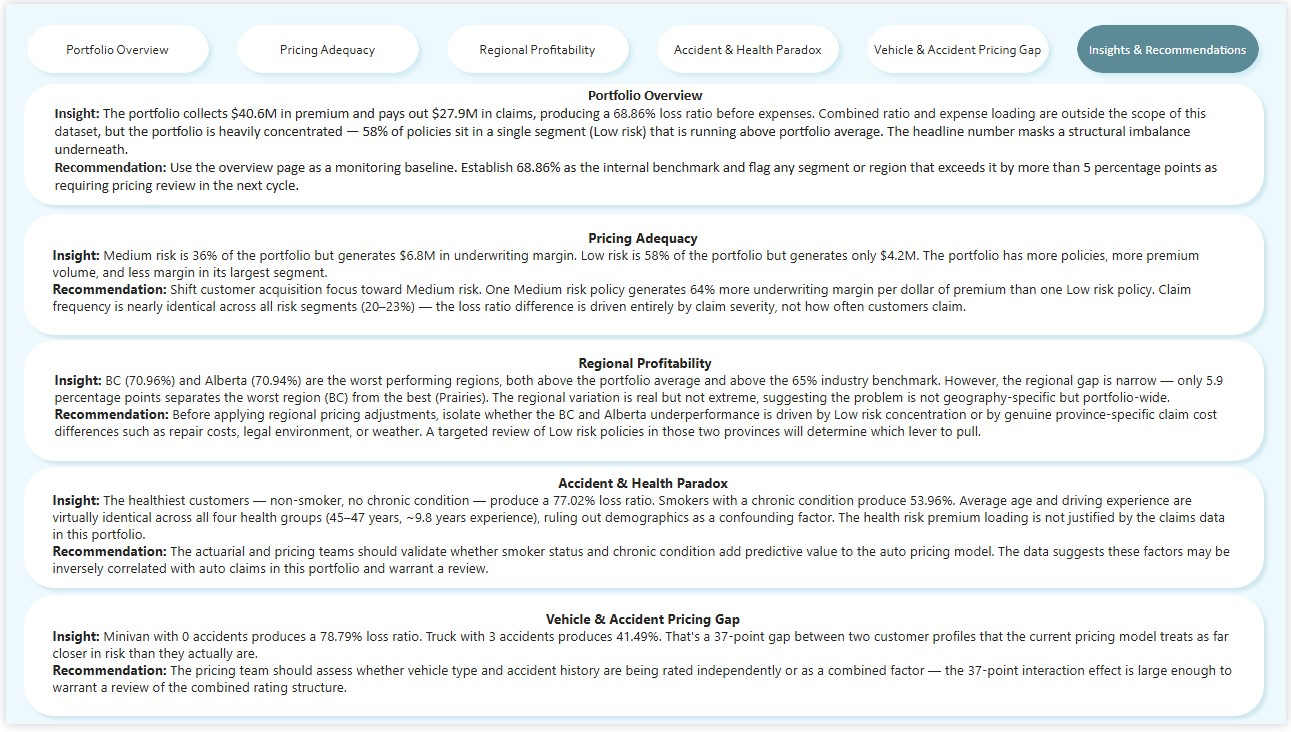

This screenshot's page, from the dashboard's own definition file:
{"tool":"powerbi","page":{"name":"Insights & Recommendations","canvas":[1280,720],"ordinal":5},"visuals":[{"type":"shape","box":[10.4,583,1256,137],"z":0},{"type":"pageNavigator","box":[11.5,12.4,1255.6,65.6],"z":1000},{"type":"shape","box":[10.4,455.2,1256,137],"z":2000},{"type":"shape","box":[10.4,327.5,1256,137],"z":3000},{"type":"shape","box":[10.4,202,1256,137],"z":4000},{"type":"shape","box":[10.4,72,1256,137],"z":5000},{"type":"textbox","box":[44,77,1191,125],"z":6000},{"type":"textbox","box":[42,220,1191,101],"z":7000},{"type":"textbox","box":[44,345,1191,101],"z":8000},{"type":"textbox","box":[42,465,1191,118],"z":9000},{"type":"textbox","box":[42,601,1191,101],"z":10000}]}

Visuals, with their boxes in screenshot pixels (x1, y1, x2, y2), scaled from the page's 1280x720 canvas onto the 1291x732 screenshot:
shape: <region>10, 593, 1277, 731</region>
pageNavigator: <region>12, 13, 1278, 79</region>
shape: <region>10, 463, 1277, 602</region>
shape: <region>10, 333, 1277, 472</region>
shape: <region>10, 205, 1277, 345</region>
shape: <region>10, 73, 1277, 212</region>
textbox: <region>44, 78, 1246, 205</region>
textbox: <region>42, 224, 1244, 326</region>
textbox: <region>44, 351, 1246, 453</region>
textbox: <region>42, 473, 1244, 593</region>
textbox: <region>42, 611, 1244, 714</region>
